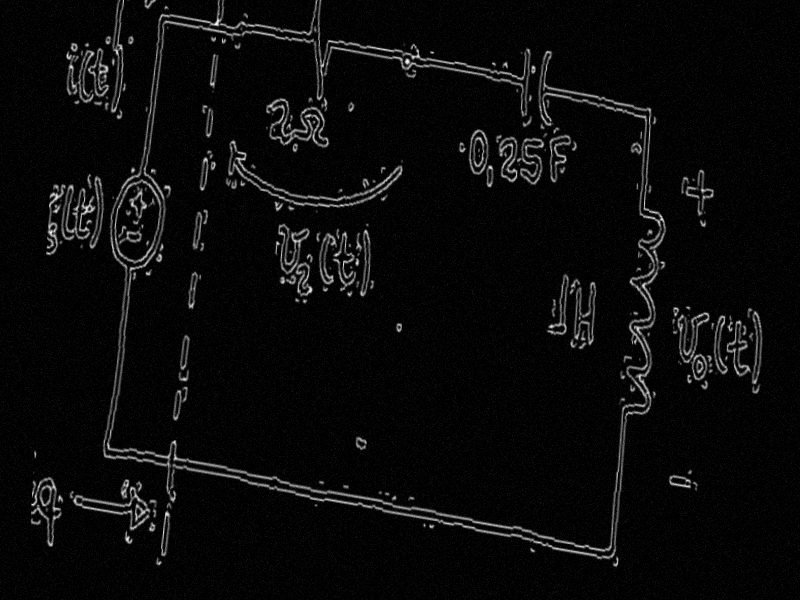-: (667, 471, 692, 493), (123, 226, 144, 245)
0: (465, 124, 492, 179), (690, 351, 709, 384)
1: (545, 268, 574, 344)
2: (266, 93, 299, 149), (494, 132, 521, 184), (292, 261, 314, 300)
5: (517, 133, 546, 189)
F: (544, 130, 572, 187)
H: (568, 274, 599, 348)
V: (672, 301, 711, 370), (272, 218, 311, 282), (47, 184, 62, 244)
